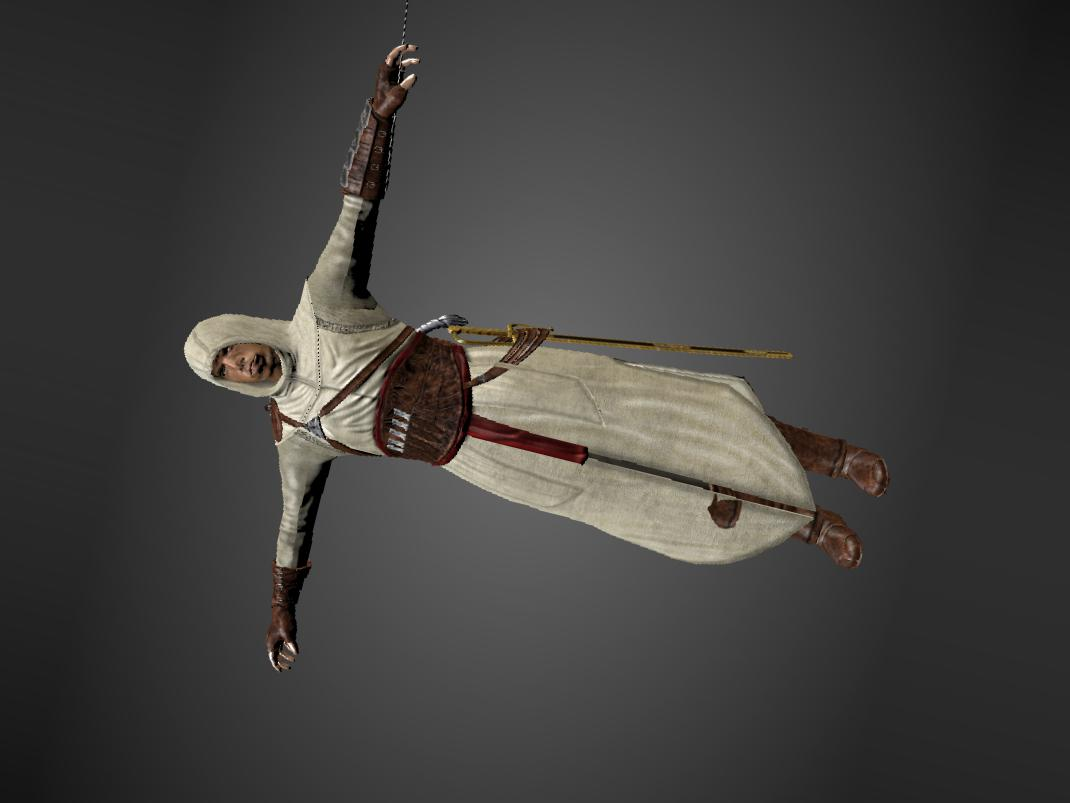clip: (489, 355, 528, 373)
